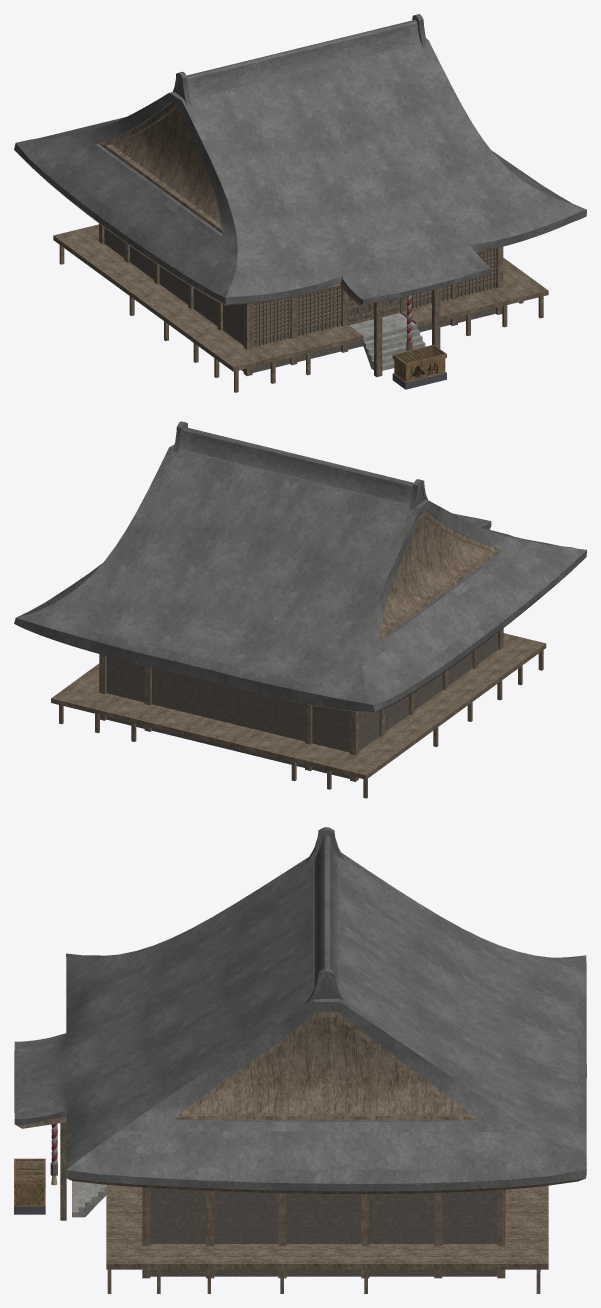
Rendered from ShrineModel.fbx.
3 renders of one model, top to bottom at view 1: azimuth 30°, elevation 25°; view 2: azimuth 150°, elevation 25°; view 3: azimuth 270°, elevation 25°, orthographic. The views are drawn at different scales.
Parts seen in each view (by area): view 1: yanemesh, yuka, yanekazari, Body, amime, Hashira, kaidan, Box, yukashitahasihra, yaneura, tobiraL; view 2: yanemesh, yuka, Body, yanekazari, Hashira, yukashitahasihra; view 3: yanemesh, Body, yuka, yanekazari, Hashira, yaneura, Box, kaidan, wood, yukashitahasihra.
Boxes of the visible parts, x1,y1,x2,y2 form: yanemesh: (14,38,586,304); yuka: (53,224,548,371); yanekazari: (172,14,428,105); Body: (104,227,495,372); amime: (252,248,496,347); Hashira: (99,223,503,377); kaidan: (350,313,425,370); Box: (392,344,446,389); yukashitahasihra: (59,245,543,392); yaneura: (17,153,583,305); tobiraL: (348,295,400,325); yanemesh: (14,444,586,711); yuka: (51,633,546,779); Body: (106,632,498,778); yanekazari: (173,421,427,510); Hashira: (99,628,503,781); yukashitahasihra: (59,650,543,798); yanemesh: (14,852,586,1191); Body: (150,1187,497,1276); yuka: (106,1184,548,1269); yanekazari: (306,827,343,1003); Hashira: (60,1122,505,1278); yaneura: (15,1116,584,1193); Box: (14,1158,45,1214); kaidan: (72,1181,106,1217); wood: (15,1161,44,1182); yukashitahasihra: (107,1269,540,1293).
Size of the model in its own units: 351 by 229 by 392.
